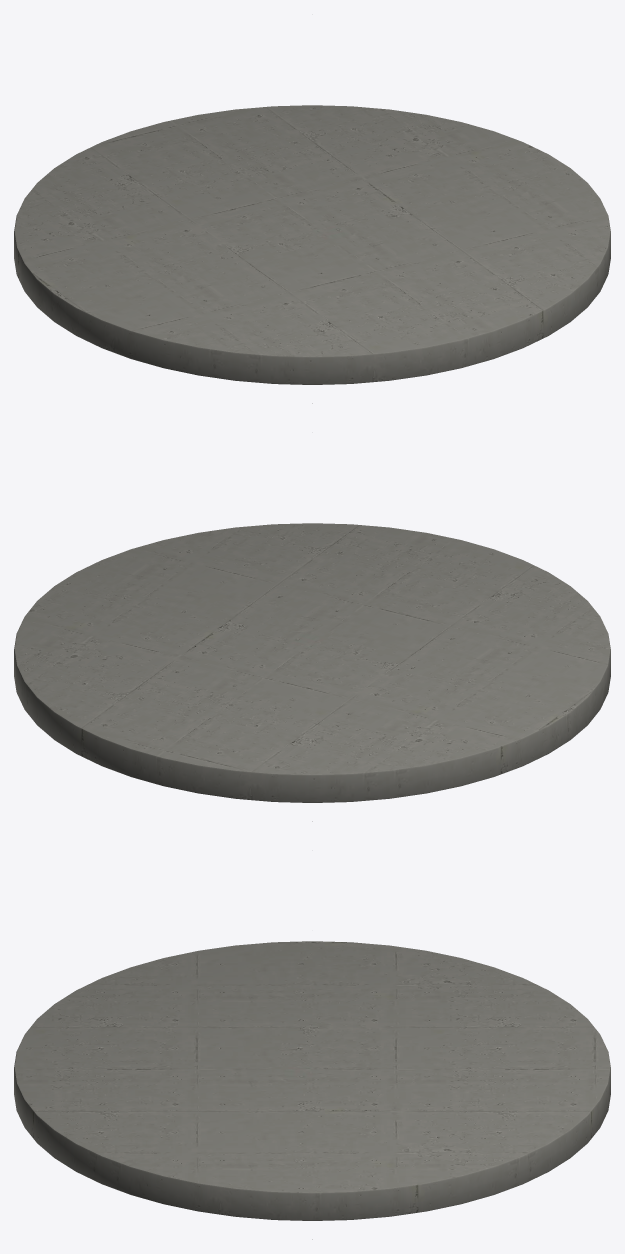
The model's file is HID-TRT-002_anim.glb.
3 views of the same model, one above another, from view 1: azimuth 30°, elevation 25°; view 2: azimuth 150°, elevation 25°; view 3: azimuth 270°, elevation 25° (orthographic).
Parts seen in each view (by area): view 1: HID-TRT-002_anim0; view 2: HID-TRT-002_anim0; view 3: HID-TRT-002_anim0.
Part boxes in pixels (<box>): HID-TRT-002_anim0: <box>14,105,610,384</box>; HID-TRT-002_anim0: <box>14,523,610,802</box>; HID-TRT-002_anim0: <box>14,941,610,1220</box>.
Bounding box in the file's own units: 1.5 × 1.08 × 1.5.
Materials: 3 (2 with a texture image).
